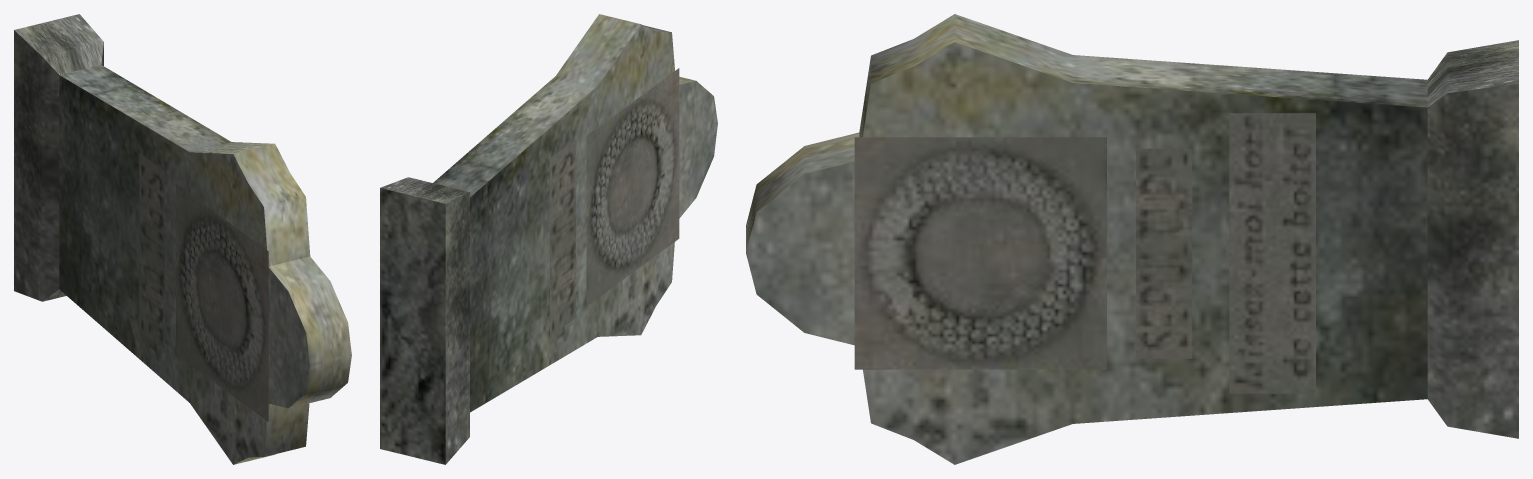
Rendered from prop_tombstone4.glb.
3 views of the same model, side by side, from view 1: azimuth 30°, elevation 25°; view 2: azimuth 150°, elevation 25°; view 3: azimuth 270°, elevation 25° (orthographic). The views are drawn at different scales.
Size of the model in its own units: 7.55 by 34.23 by 56.68.
1 material, 1 textured.
